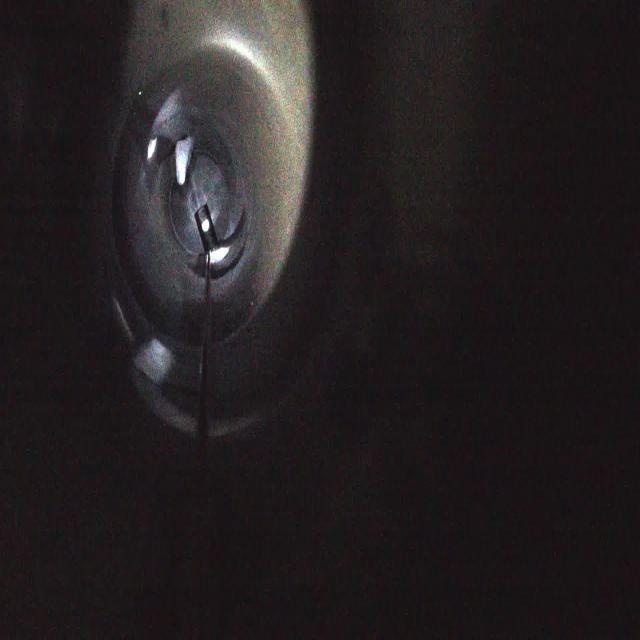impurity: (170, 128, 199, 188)
